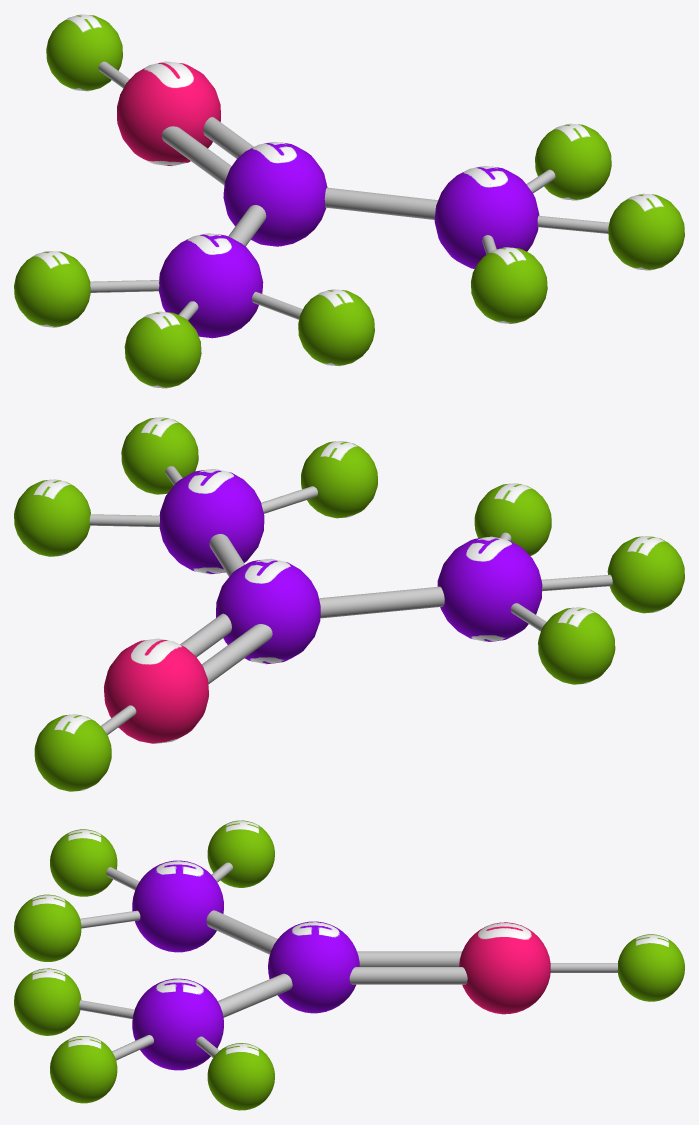
File: SM_Molecule_6.fbx
3 views of the same model, one above another, from view 1: azimuth 30°, elevation 25°; view 2: azimuth 150°, elevation 25°; view 3: azimuth 270°, elevation 25° (orthographic). The views are drawn at different scales.
Visible parts, largest first — view 1: SM_Molecule_6; view 2: SM_Molecule_6; view 3: SM_Molecule_6.
Part boxes in pixels (left/top/right/bottom): SM_Molecule_6: left=14, top=14, right=684, bottom=388; SM_Molecule_6: left=14, top=417, right=684, bottom=791; SM_Molecule_6: left=14, top=820, right=684, bottom=1110.
Size of the model in its own units: 357 by 54.79 by 403.
